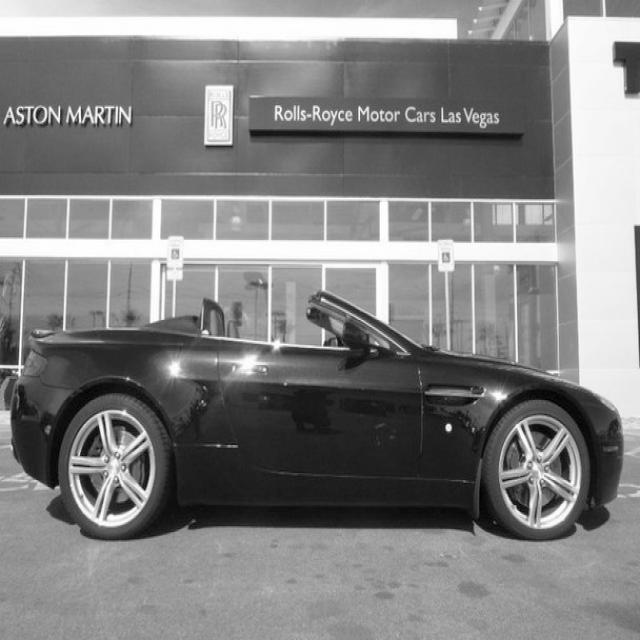car: (10, 286, 624, 542)
